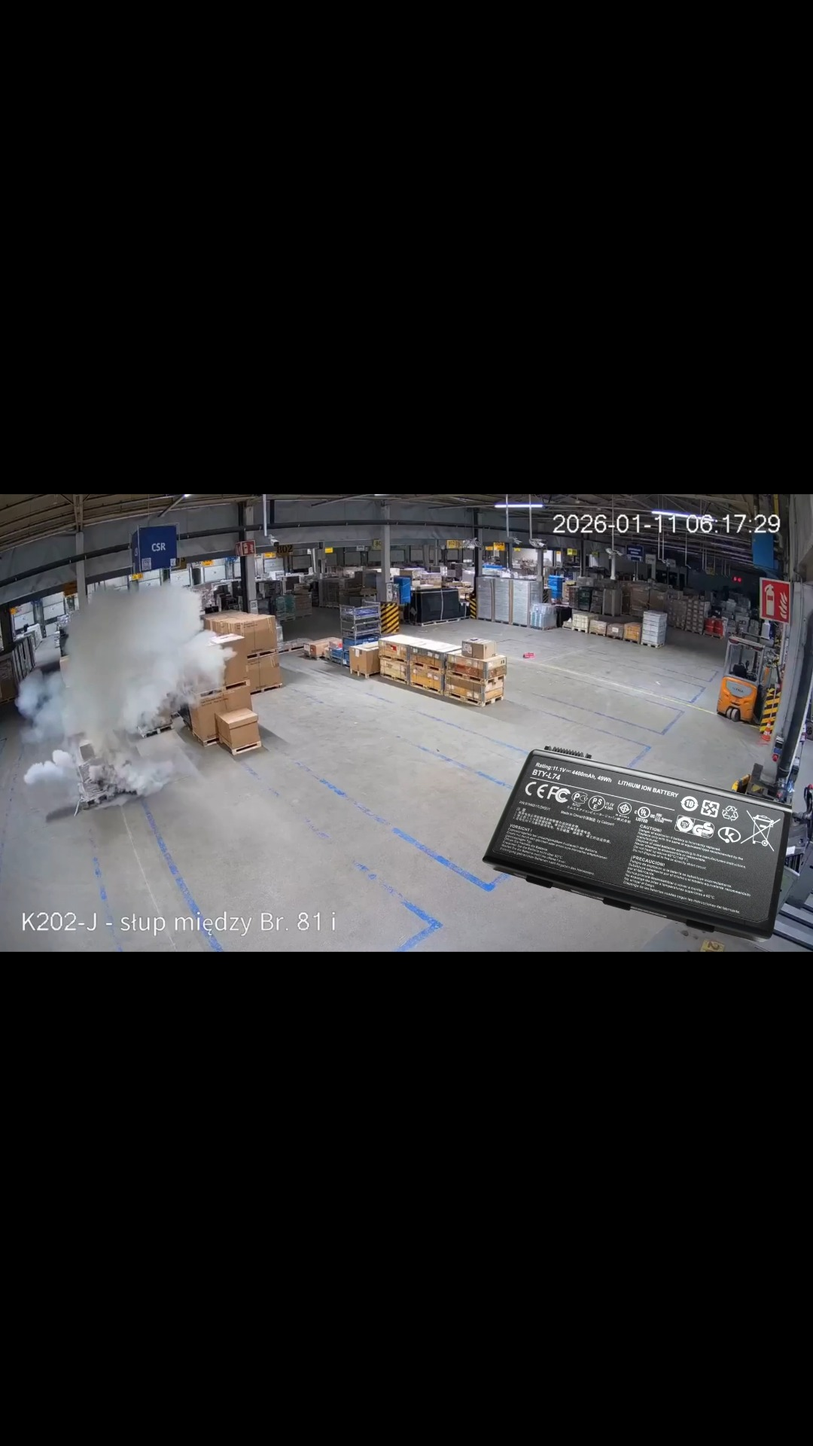smoke: (15, 578, 233, 805)
